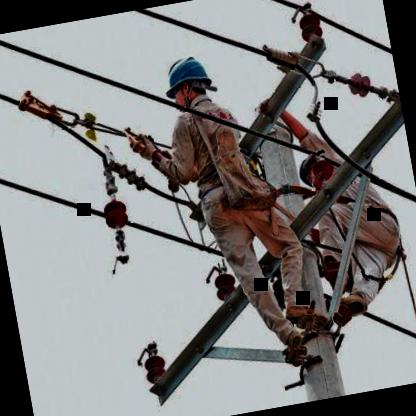helmet: (158, 44, 224, 118)
